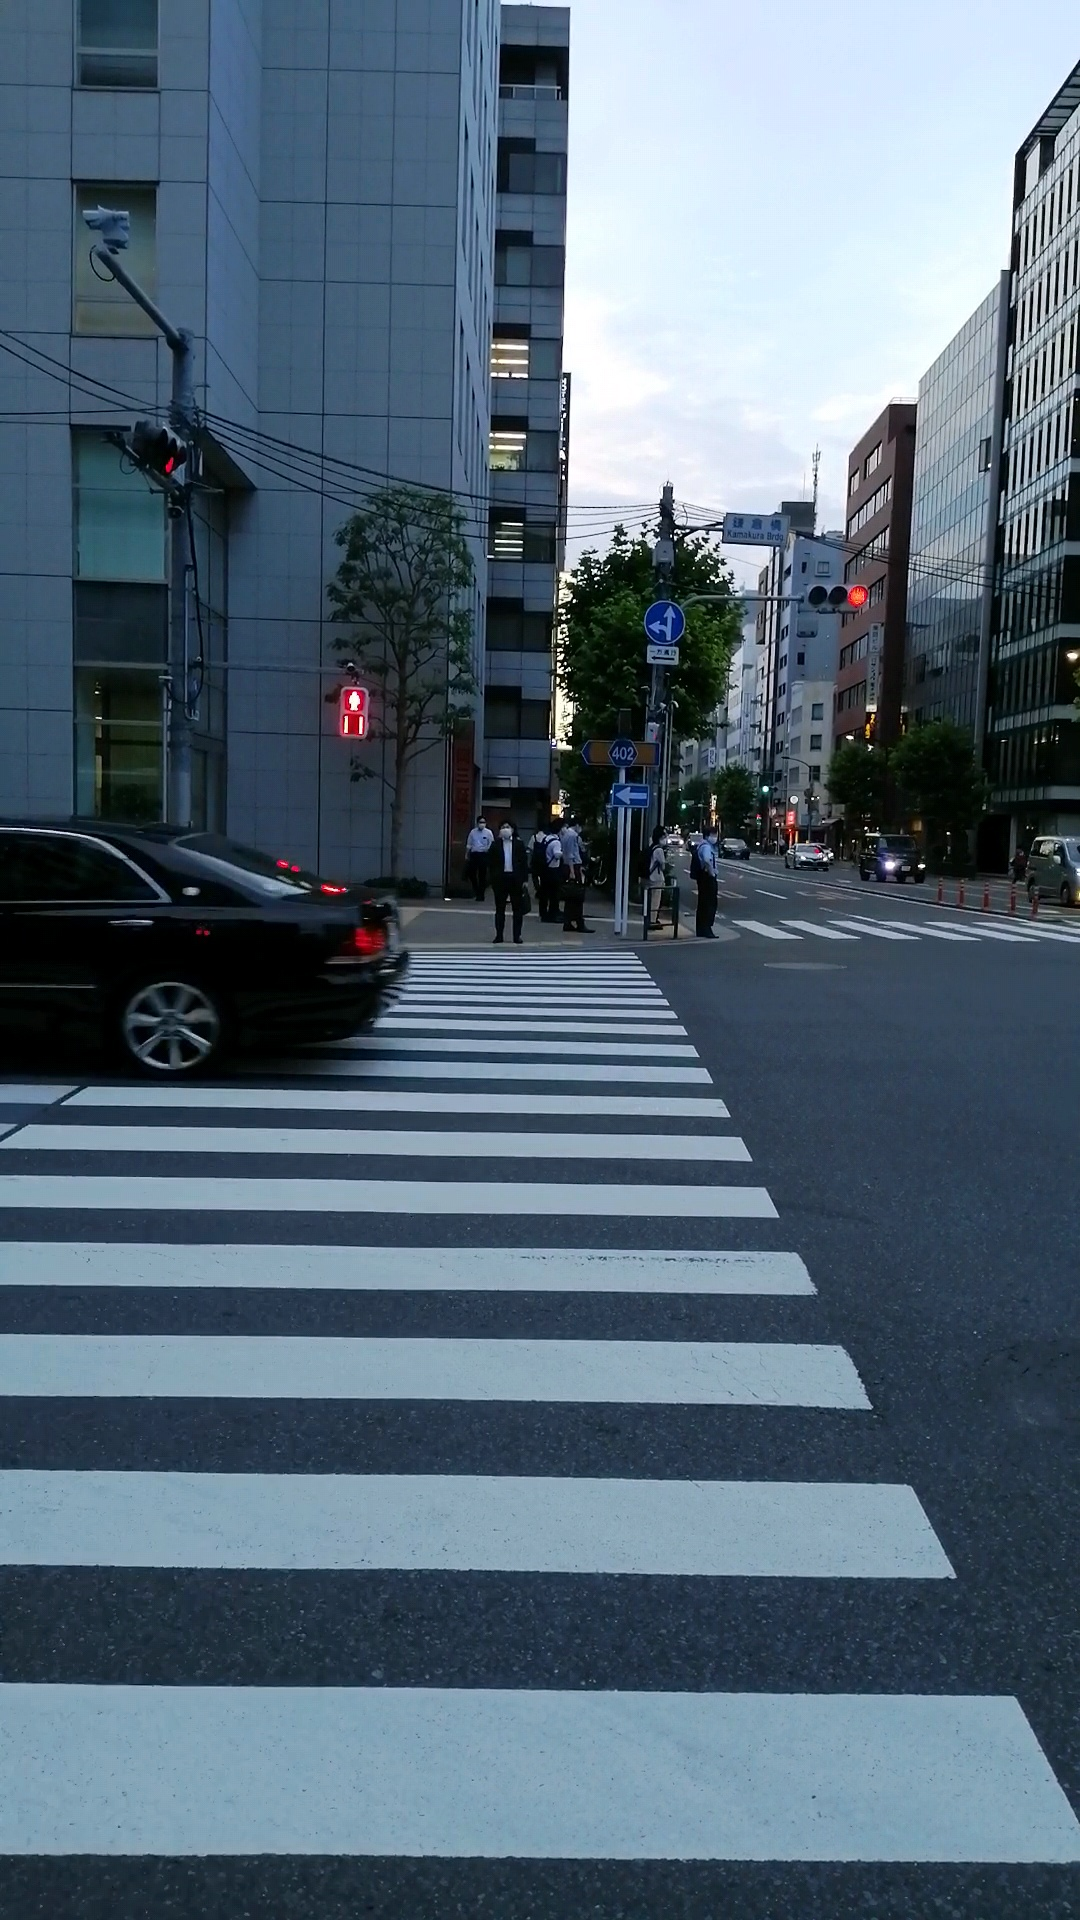red: (339, 684, 368, 737)
